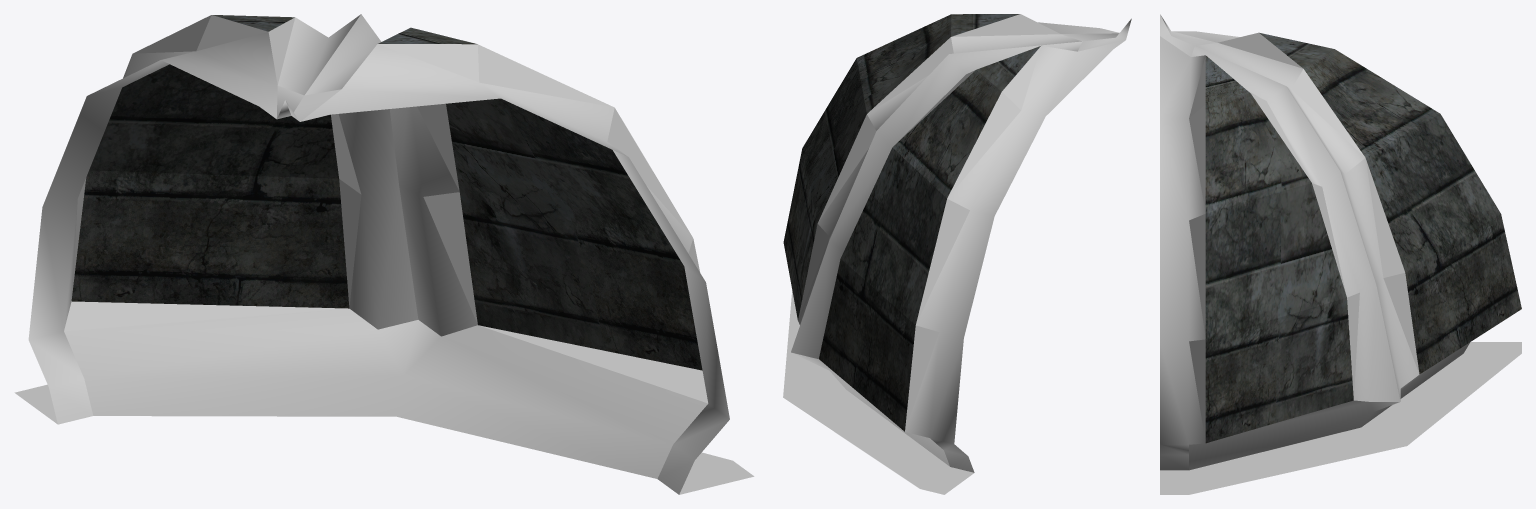
Rendered from corner_concave_round_short_flat.dae.
3 renders of one model, left to right at view 1: azimuth 30°, elevation 25°; view 2: azimuth 150°, elevation 25°; view 3: azimuth 270°, elevation 25°, orthographic. The views are drawn at different scales.
Visible parts, largest first — view 1: polySurface1, polySurface16; view 2: polySurface1, polySurface16; view 3: polySurface16, polySurface1.
Boxes of the visible parts, x1,y1,x2,y2 form: polySurface1: (14,14,754,494); polySurface16: (71,15,702,370); polySurface1: (783,14,1131,494); polySurface16: (783,14,1040,431); polySurface16: (1205,32,1521,443); polySurface1: (1160,14,1521,494).
Size of the model in its own units: 2 by 2 by 2.
